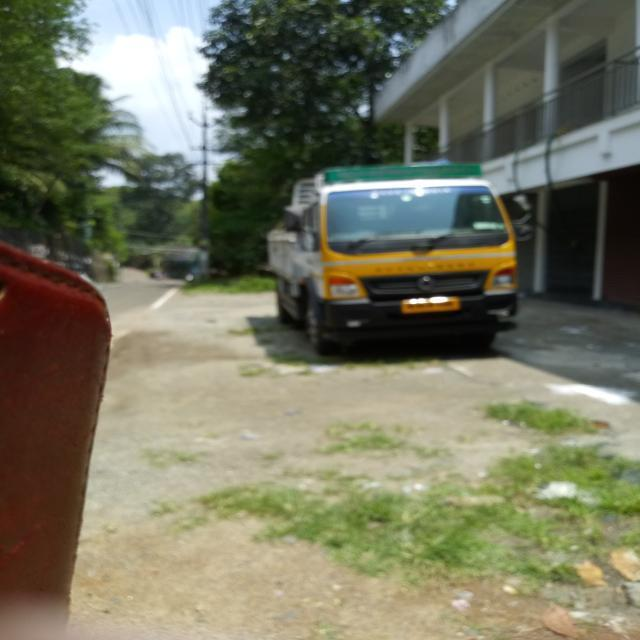truck_front: (261, 160, 530, 364)
